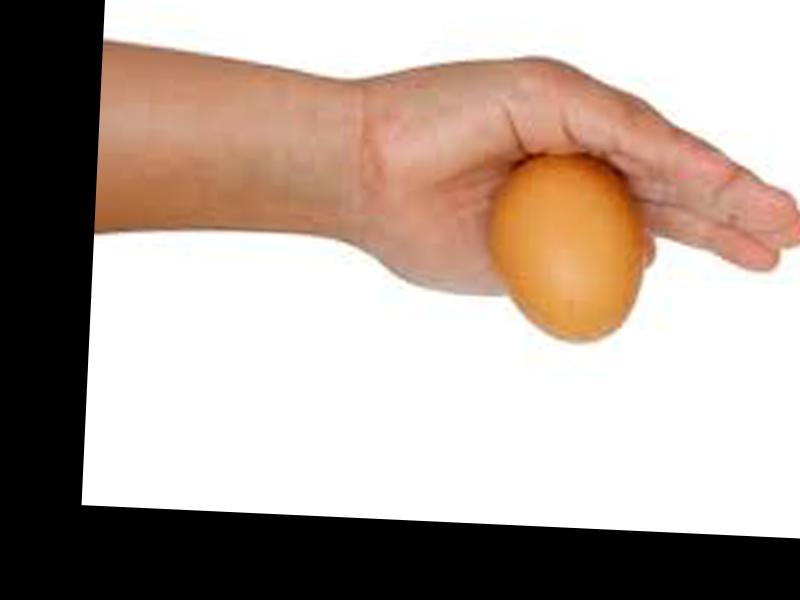Eggs: (485, 147, 648, 347)
